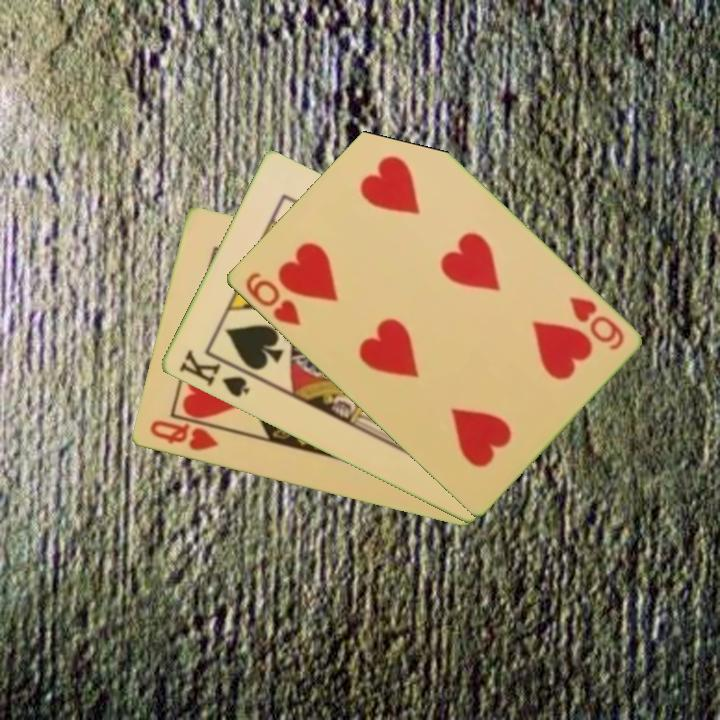6h: (565, 293, 627, 354), (241, 269, 303, 329)
Ks: (175, 346, 257, 401)
Qh: (146, 417, 221, 454)
